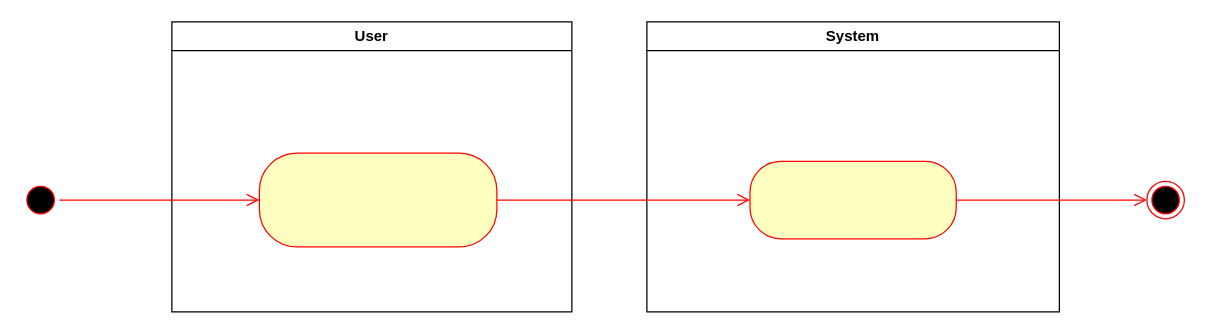
Some shapes in this 1206 by 334 pixel diagram are drawn without their labels. The centre of each missing label's shape, as x and y in pixels:
(1) On "left menu" click " Discount/Voucher Management – CRUD Discount ": point (377, 199)
(2) Load " List Discount (seller)” Screen: point (852, 199)
